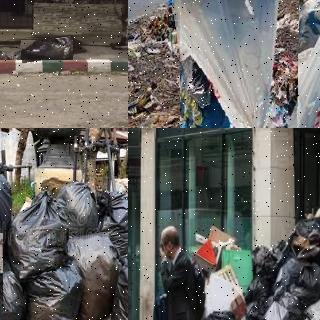Garbage: (170, 0, 307, 128), (63, 226, 124, 320), (10, 187, 68, 278), (20, 252, 85, 320), (48, 174, 111, 232), (93, 184, 128, 270), (274, 257, 320, 296), (21, 38, 73, 62), (253, 0, 295, 15), (11, 49, 36, 61), (0, 49, 10, 59)
